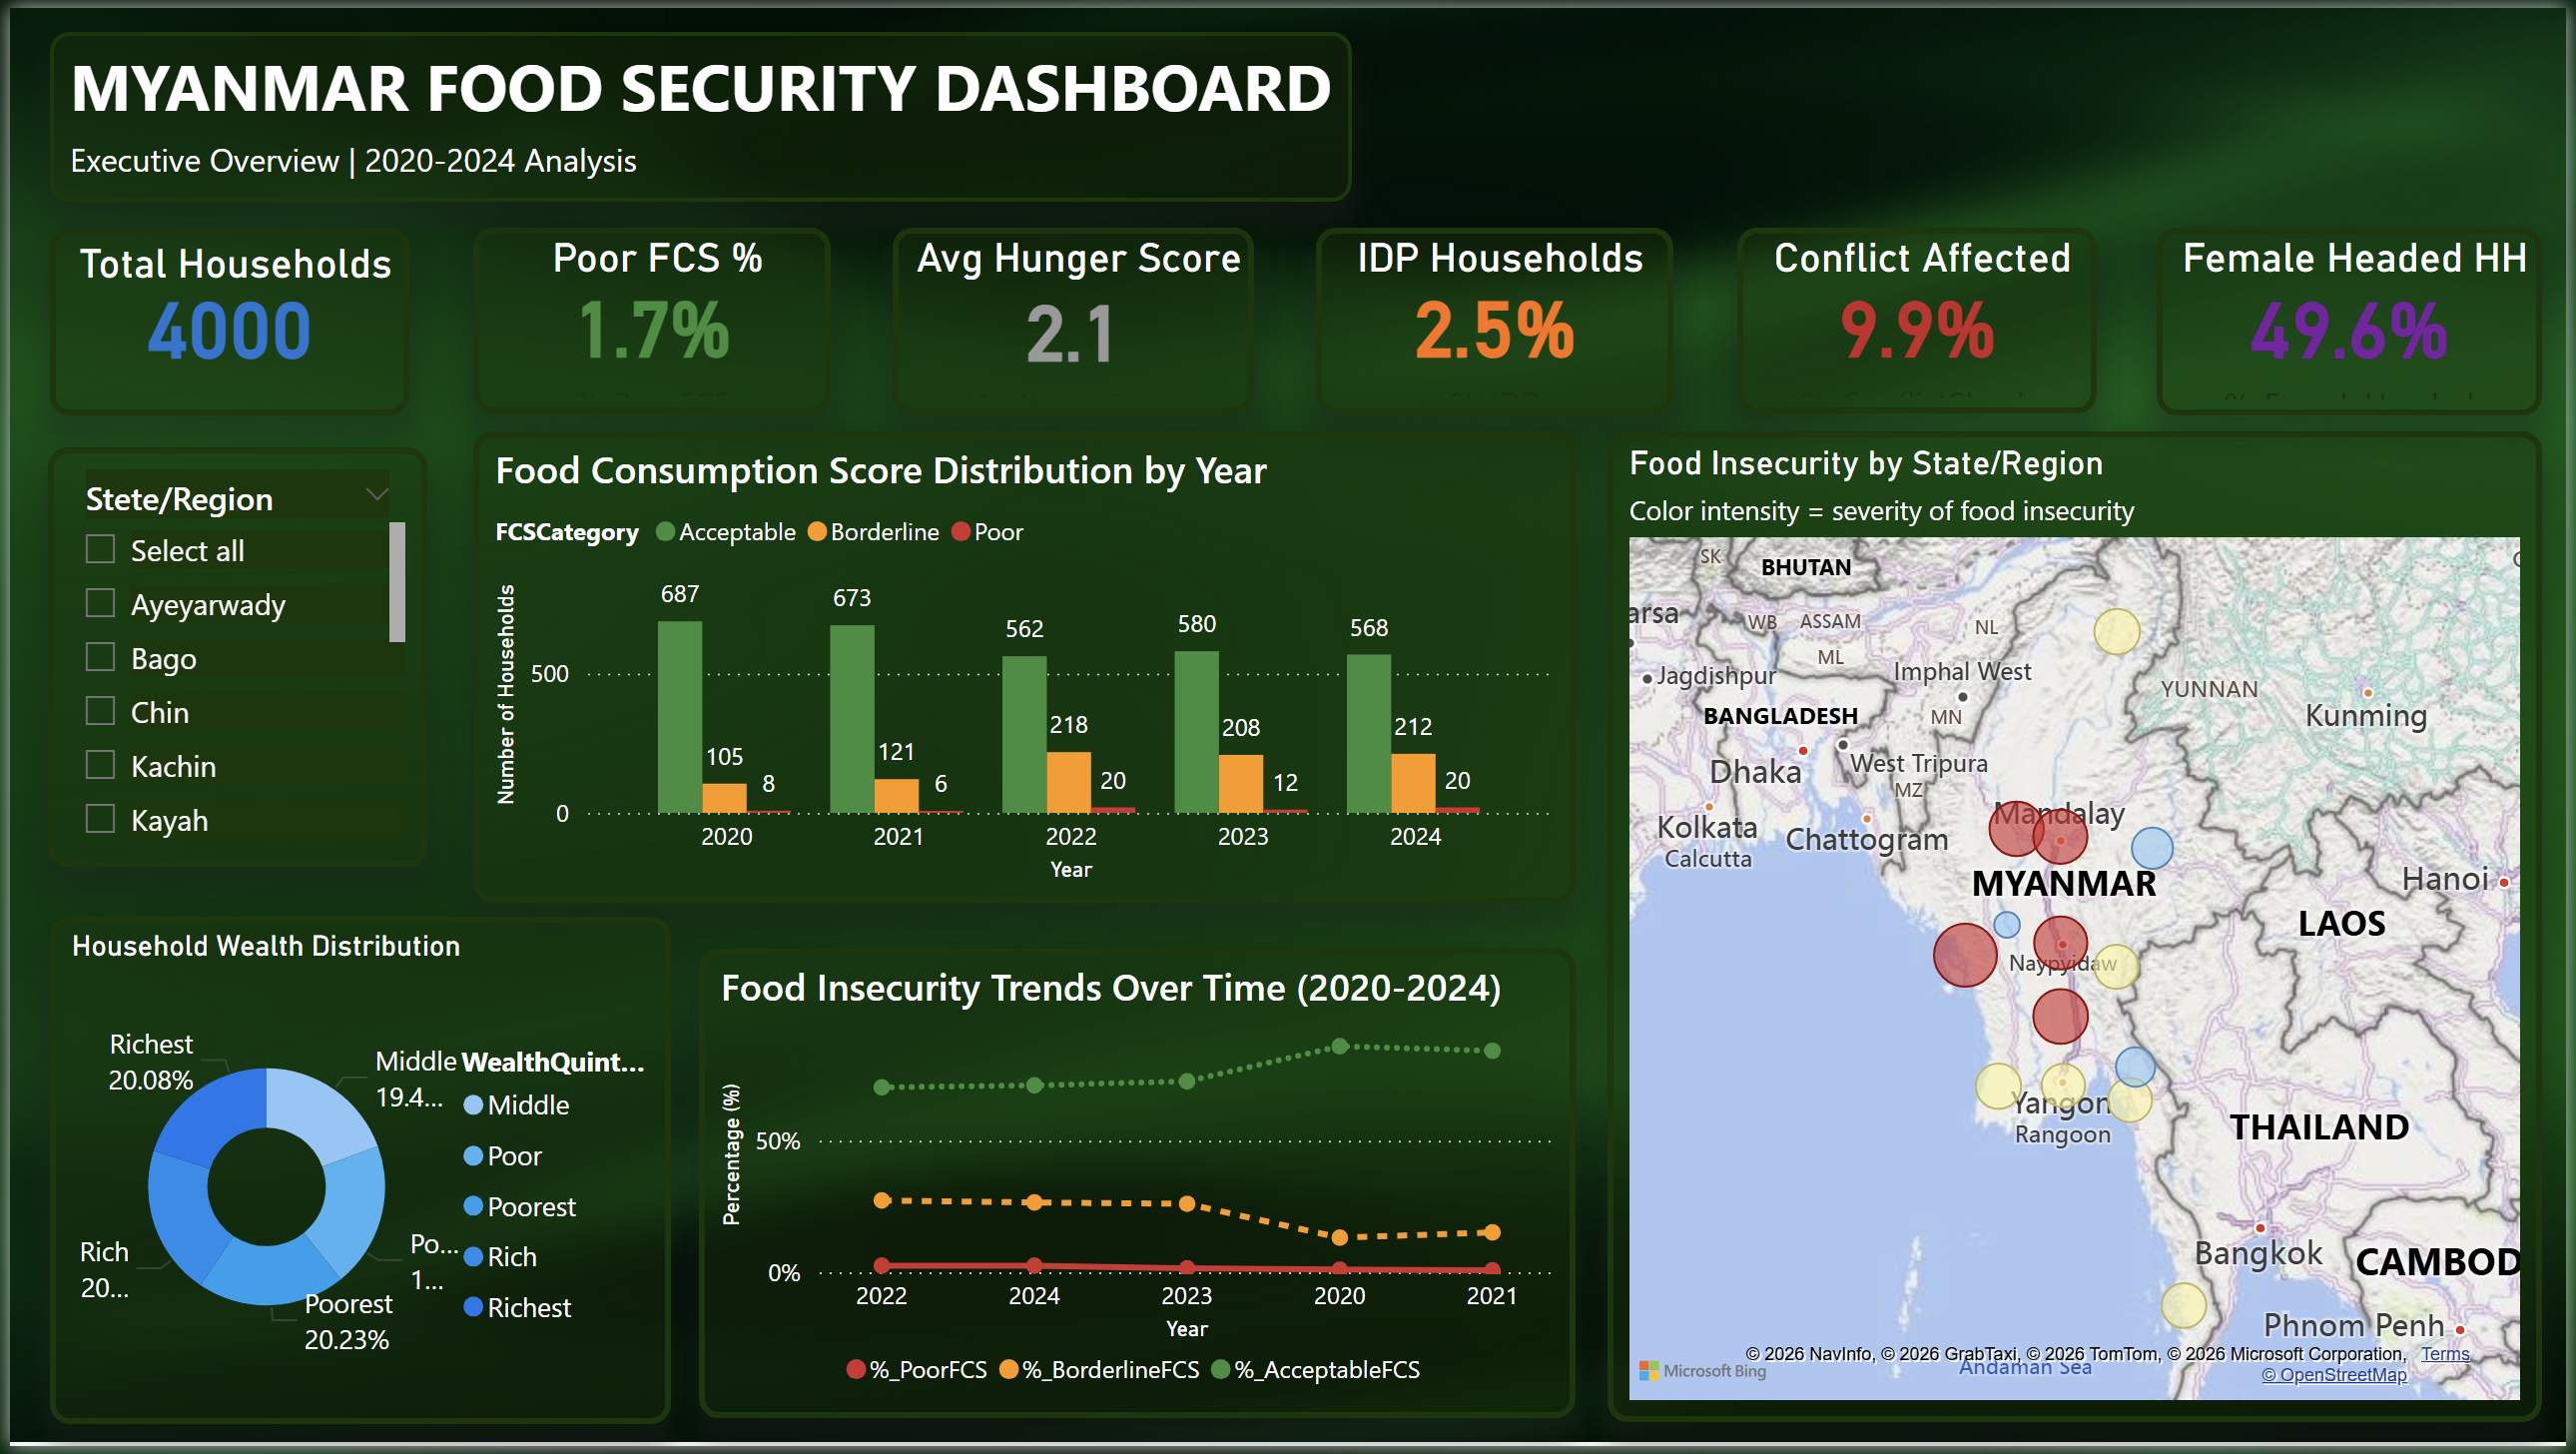

What the dashboard file says about the page in this screenshot:
{"tool":"powerbi","page":{"name":"OVERVIEW","canvas":[1280,720],"ordinal":0},"visuals":[{"type":"card","title":"Total Households","fields":{"Values":["fact_foodsecurity.TotalHouseholds"]},"box":[19.1,110,181.7,93.2],"z":0},{"type":"card","title":"Poor FCS % ","fields":{"Values":["fact_foodsecurity.%_PoorFCS"]},"box":[231.9,110,179.3,93.2],"z":1000},{"type":"card","title":"Avg Hunger Score","fields":{"Values":["fact_foodsecurity.AvgHungerScore"]},"box":[442.2,110,180.5,93.2],"z":2000},{"type":"card","title":"IDP Households","fields":{"Values":["fact_foodsecurity.%_IDP"]},"box":[653.7,110,179.3,93.2],"z":3000},{"type":"card","title":"Conflict Affected","fields":{"Values":["fact_foodsecurity.%_ConflictShock"]},"box":[865.3,110,179.3,93.2],"z":4000},{"type":"card","title":"Female Headed HH","fields":{"Values":["dim_hh.%_FemaleHeaded"]},"box":[1075.6,110,192.4,93.2],"z":5000},{"type":"clusteredColumnChart","title":"Food Consumption Score Distribution by Year","fields":{"Category":["dim_date.Year"],"Y":["fact_foodsecurity.TotalHouseholds"],"Series":["fact_foodsecurity.FCSCategory"]},"box":[231.9,211.5,552.2,236.6],"z":6000},{"type":"lineChart","title":"Food Insecurity Trends Over Time (2020-2024)","fields":{"Category":["dim_date.Year"],"Y":["fact_foodsecurity.%_PoorFCS","fact_foodsecurity.%_BoderlineFCS","fact_foodsecurity.%_AcceptableFCS"]},"box":[345.4,470.9,438.6,235.4],"z":7000},{"type":"donutChart","title":"Household Wealth Distribution","fields":{"Category":["dim_hh.WealthQuintile"],"Y":["fact_foodsecurity.TotalHouseholds"]},"box":[19.6,454.8,311.7,254.3],"z":8000},{"type":"map","title":"Food Insecurity by State/Region","fields":{"Category":["dim_geography.StateRegion"],"Size":["fact_foodsecurity.%_PoorFCS"]},"box":[799.6,211.5,468.5,496],"z":9000},{"type":"textbox","title":"MYANMAR FOOD SECURITY DASHBOARD","box":[19.6,12.2,652.8,84.4],"z":10000},{"type":"slicer","fields":{"Values":["dim_geography.StateRegion"]},"box":[19.1,219.9,190,210.3],"z":11000}]}

Visuals, with their boxes in screenshot pixels (x1, y1, x2, y2), scaled from the page's 1280x720 canvas onto the 2576x1454 screenshot:
"Total Households" card: select_region(38, 222, 404, 410)
"Poor FCS % " card: select_region(466, 222, 828, 410)
"Avg Hunger Score" card: select_region(890, 222, 1253, 410)
"IDP Households" card: select_region(1316, 222, 1676, 410)
"Conflict Affected" card: select_region(1741, 222, 2103, 410)
"Female Headed HH" card: select_region(2165, 222, 2552, 410)
"Food Consumption Score Distribution by Year" clusteredColumnChart: select_region(466, 427, 1578, 905)
"Food Insecurity Trends Over Time (2020-2024)" lineChart: select_region(695, 951, 1578, 1426)
"Household Wealth Distribution" donutChart: select_region(40, 919, 667, 1432)
"Food Insecurity by State/Region" map: select_region(1610, 427, 2552, 1429)
"MYANMAR FOOD SECURITY DASHBOARD" textbox: select_region(40, 25, 1353, 195)
slicer - dim_geography.StateRegion: select_region(38, 444, 420, 869)
